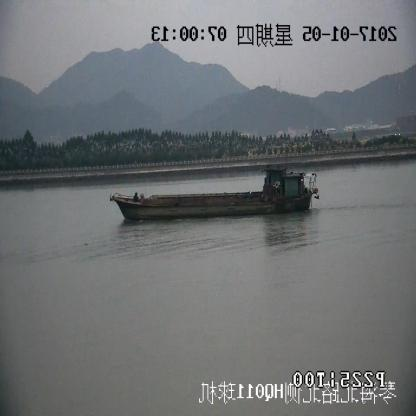Bulk Carrier: (110, 170, 320, 225)
